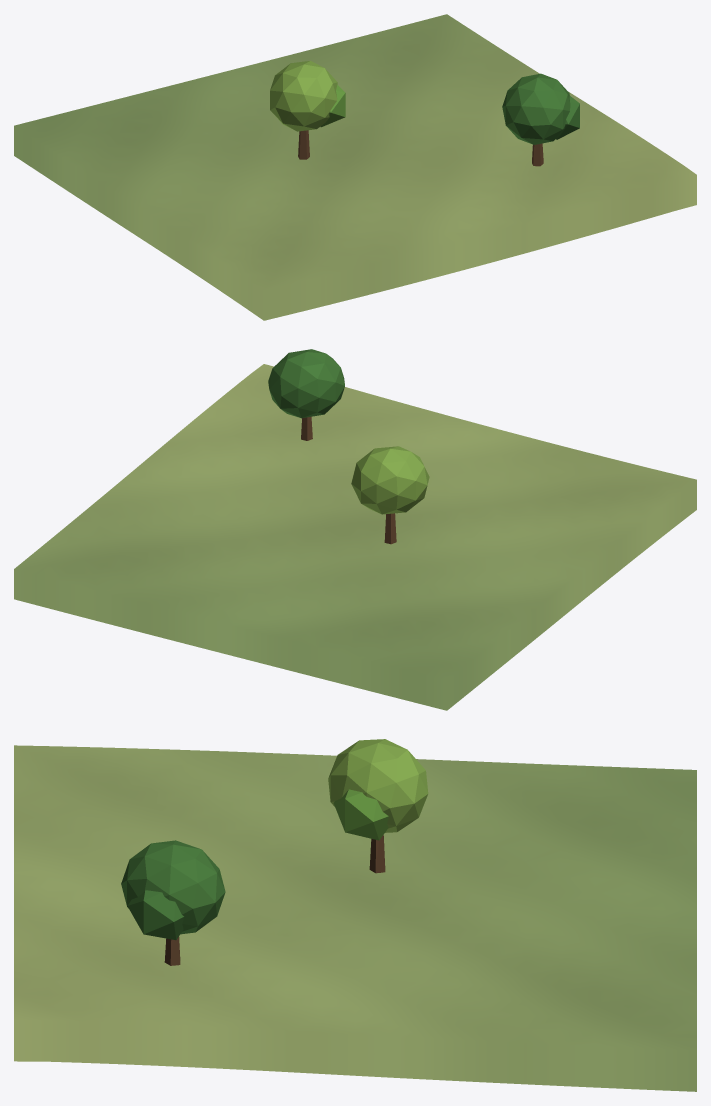
The picture shows the model from 3 angles, top to bottom: view 1: azimuth 30°, elevation 25°; view 2: azimuth 150°, elevation 25°; view 3: azimuth 270°, elevation 25°; orthographic projection. The views are drawn at different scales.
Visible parts, largest first — view 1: terrain, scenery; view 2: terrain, scenery; view 3: terrain, scenery.
Part boxes in pixels (bbox=[...]): terrain: bbox=[14, 14, 696, 320]; scenery: bbox=[270, 61, 579, 166]; terrain: bbox=[14, 364, 696, 710]; scenery: bbox=[268, 349, 429, 544]; terrain: bbox=[14, 745, 696, 1091]; scenery: bbox=[121, 739, 428, 965].
Bounding box in the file's own units: 30 × 9.11 × 30.
